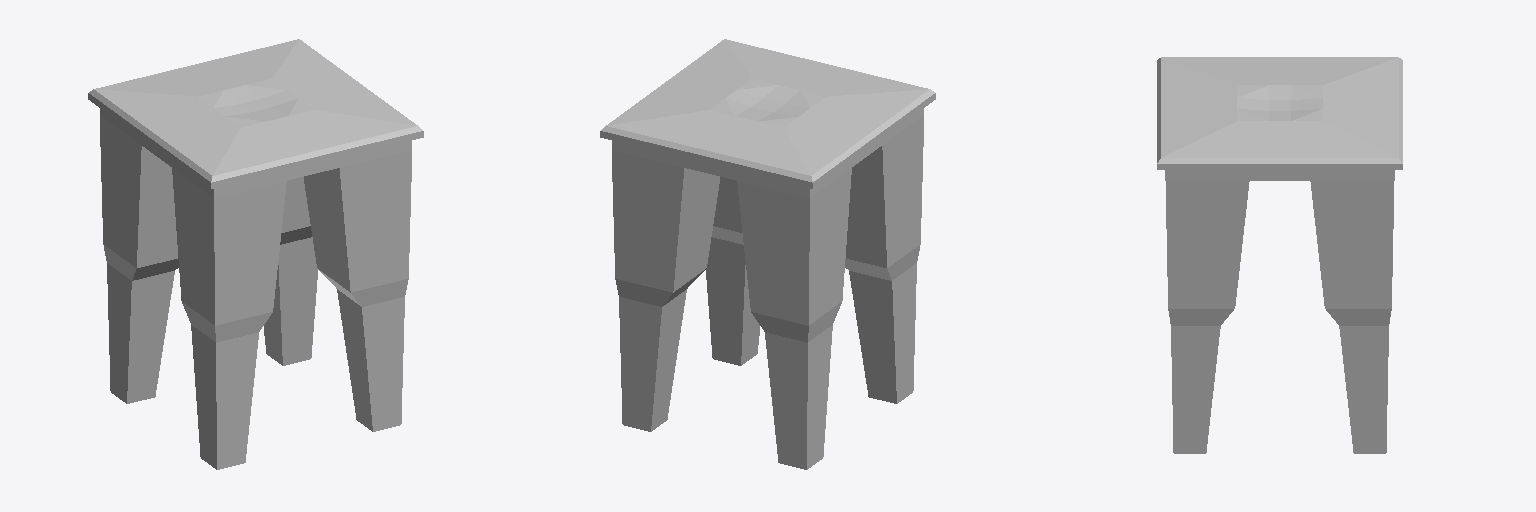
Rendered from Krzeslo1.obj.
3 views of the same model, side by side, from view 1: azimuth 30°, elevation 25°; view 2: azimuth 150°, elevation 25°; view 3: azimuth 270°, elevation 25° (orthographic).
Visible parts, largest first — view 1: Cube.003_Cube.011; view 2: Cube.003_Cube.011; view 3: Cube.003_Cube.011.
Boxes of the visible parts, <box> form: Cube.003_Cube.011: <box>88,39,423,469</box>; Cube.003_Cube.011: <box>600,39,935,469</box>; Cube.003_Cube.011: <box>1157,57,1402,453</box>.
Bounding box in the file's own units: 0.7063 × 0.9696 × 0.7063.